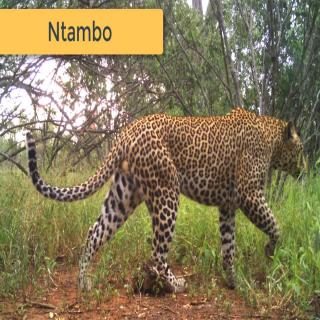Leopard: (26, 106, 308, 293)
